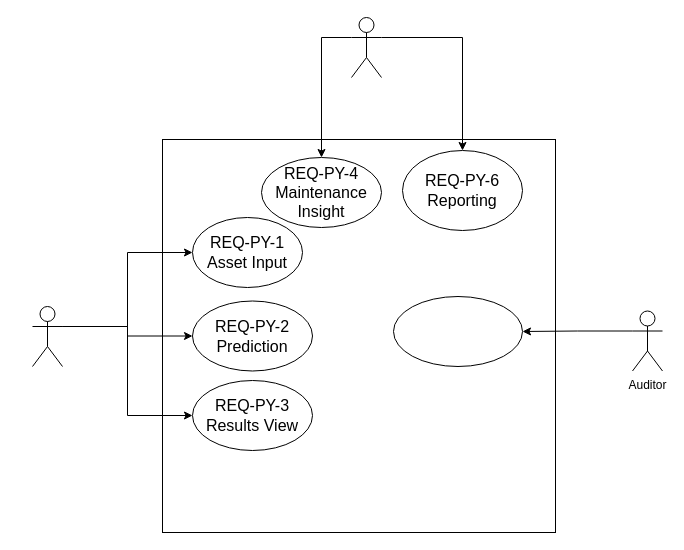
The diagram is 684 pixels wide and 550 high, and some of its shapes have lost their labels. Here are the shapes that lost their labels. From the top down, the centre of each, then its label:
the point at 366,47: Manager
the point at 47,336: Accountant
the point at 457,331: REQ-PY-5 Audit Reporting
